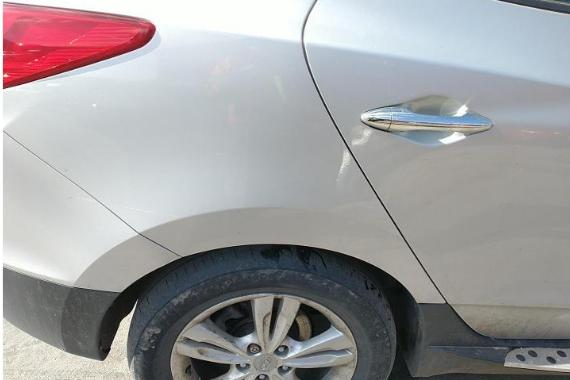Scratch: (108, 204, 190, 222), (348, 127, 375, 156), (329, 151, 352, 184), (513, 125, 563, 138), (69, 194, 106, 210)
